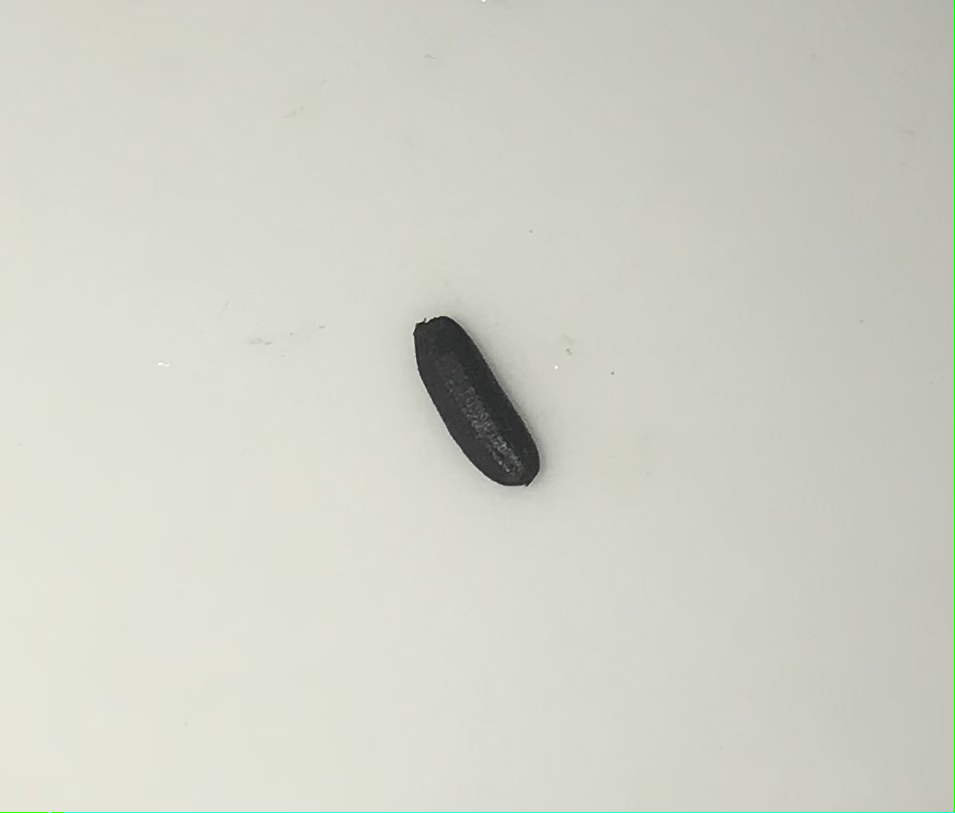Gao Nep Cam: (387, 303, 569, 498)
